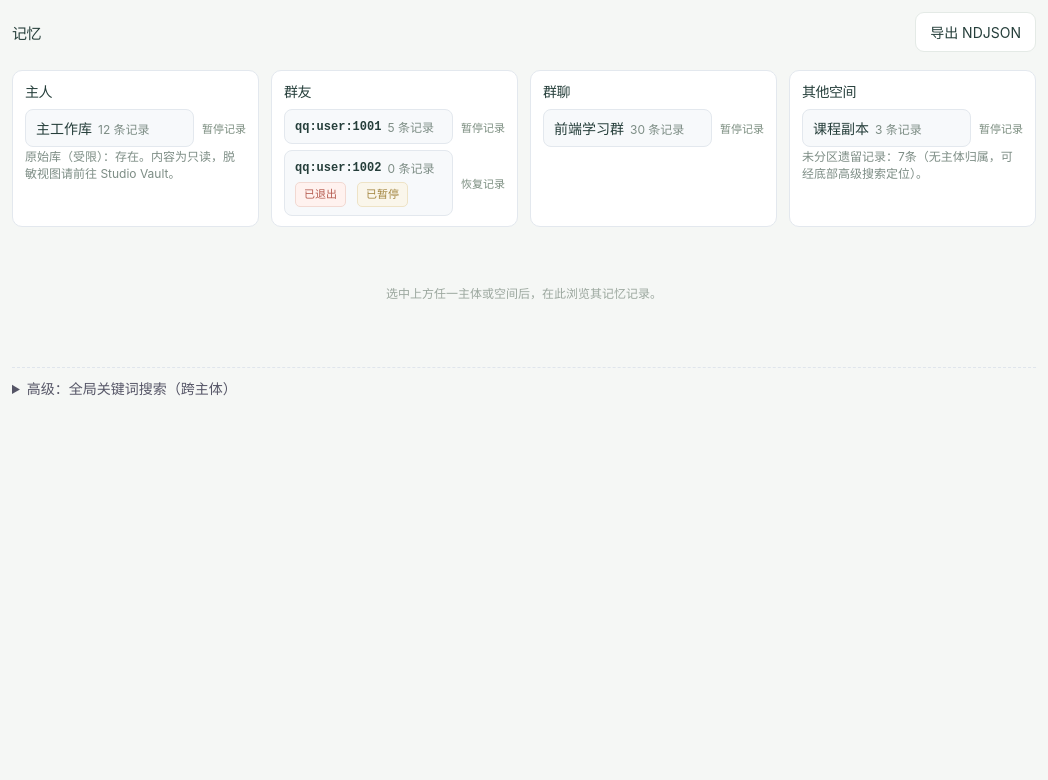
Test: MemoryView 主体优先记忆管理 › 选中主人空间：渲染记录摘要，纠错按钮提交正确 body 并提示新旧 key
Click the text "主工作库": {"x": 64, "y": 128} [36,118,92,138]
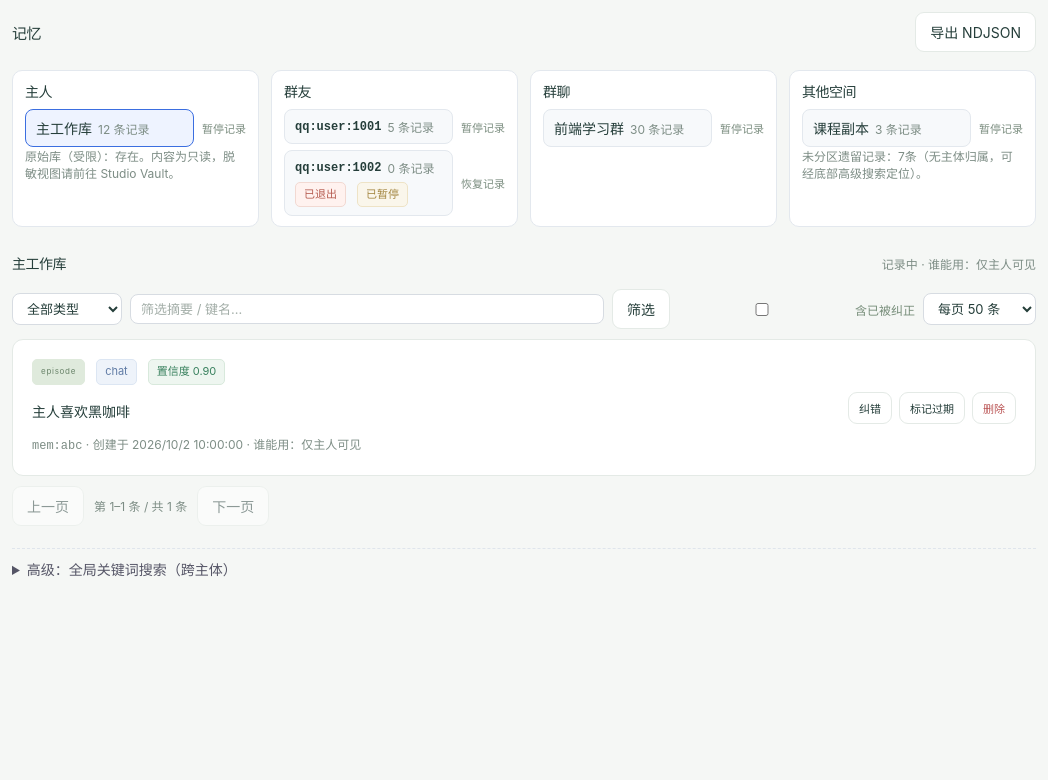
Expected: the text "主人喜欢黑咖啡" is shown, [32,403,130,420]
Click the button "纠错": {"x": 870, "y": 408} [848,392,892,424]
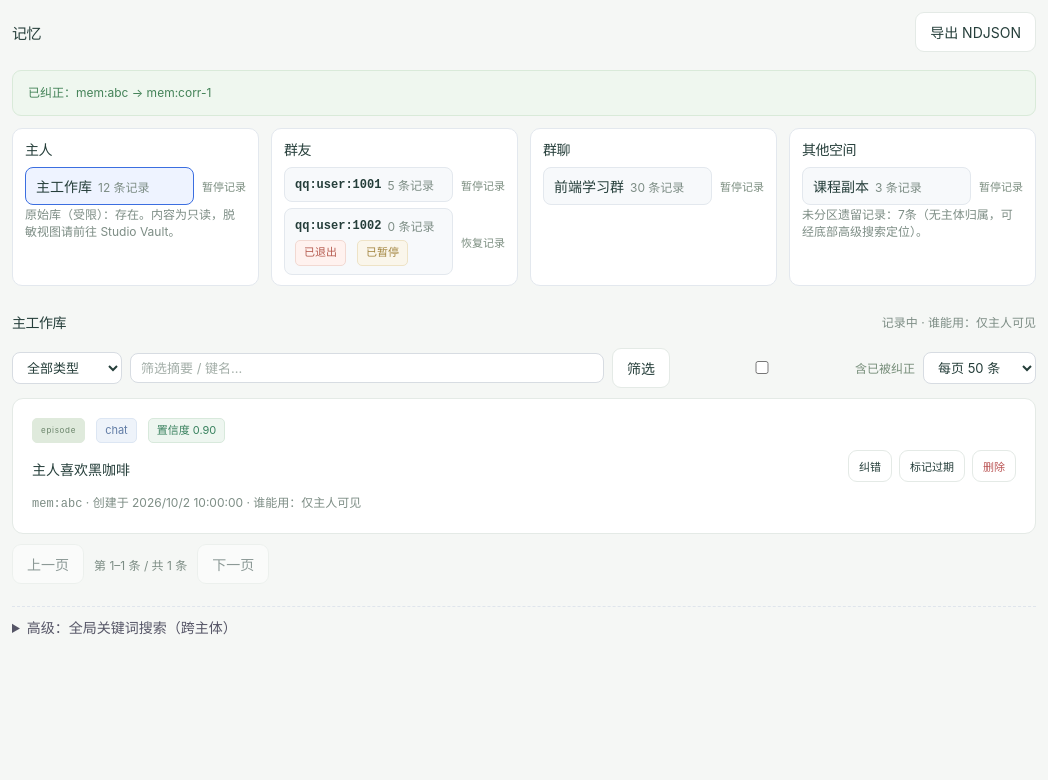
Expected: the text "已纠正：mem:abc → mem:corr-1" is shown, [12,70,1036,116]
